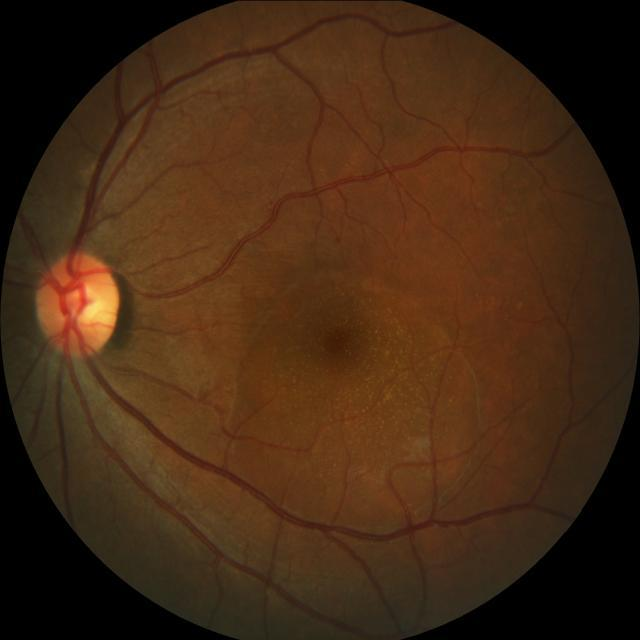OC: (58, 275, 104, 328)
OD: (33, 251, 119, 356)
